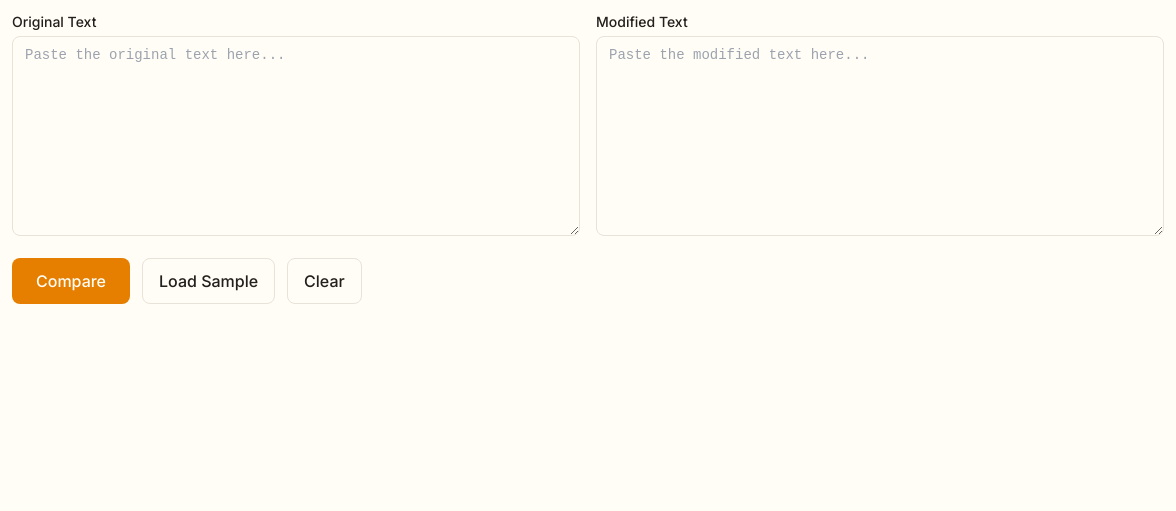
TextDiff › shows identical text message when texts match
Type "same text" into the text box with placeholder "Paste the original text here...".
click(296, 136); type("same text")  # box x1=12 y1=36 x2=580 y2=236
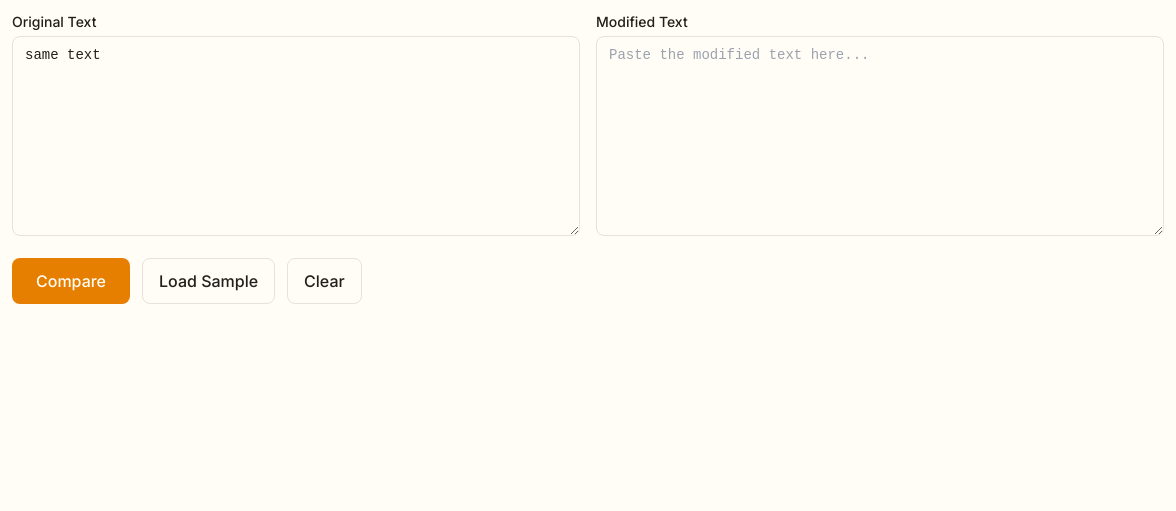
Type "same text" into the text box with placeholder "Paste the modified text here...".
click(880, 136); type("same text")  # box x1=596 y1=36 x2=1164 y2=236
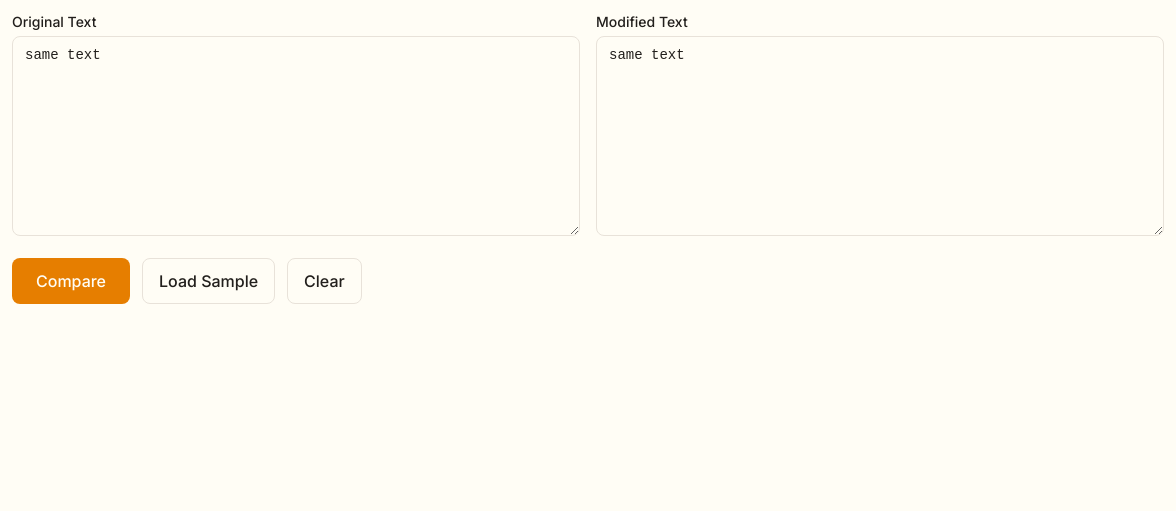
Click the button with aria-label "Compare texts".
click(71, 281)  # box x1=12 y1=258 x2=130 y2=304
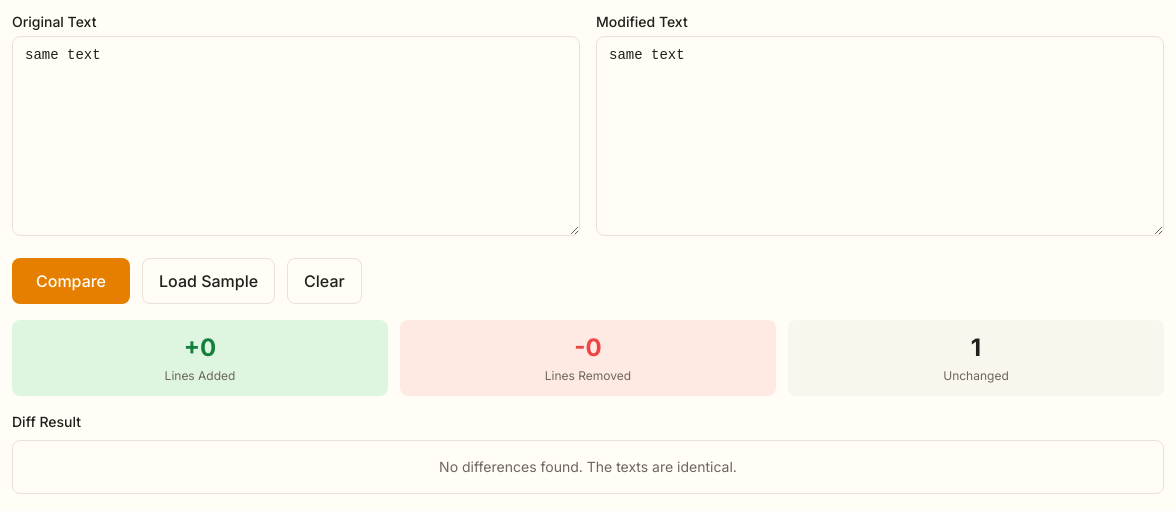
Check: the text "No differences found. The texts are identical." is shown, box x1=439 y1=458 x2=737 y2=475
